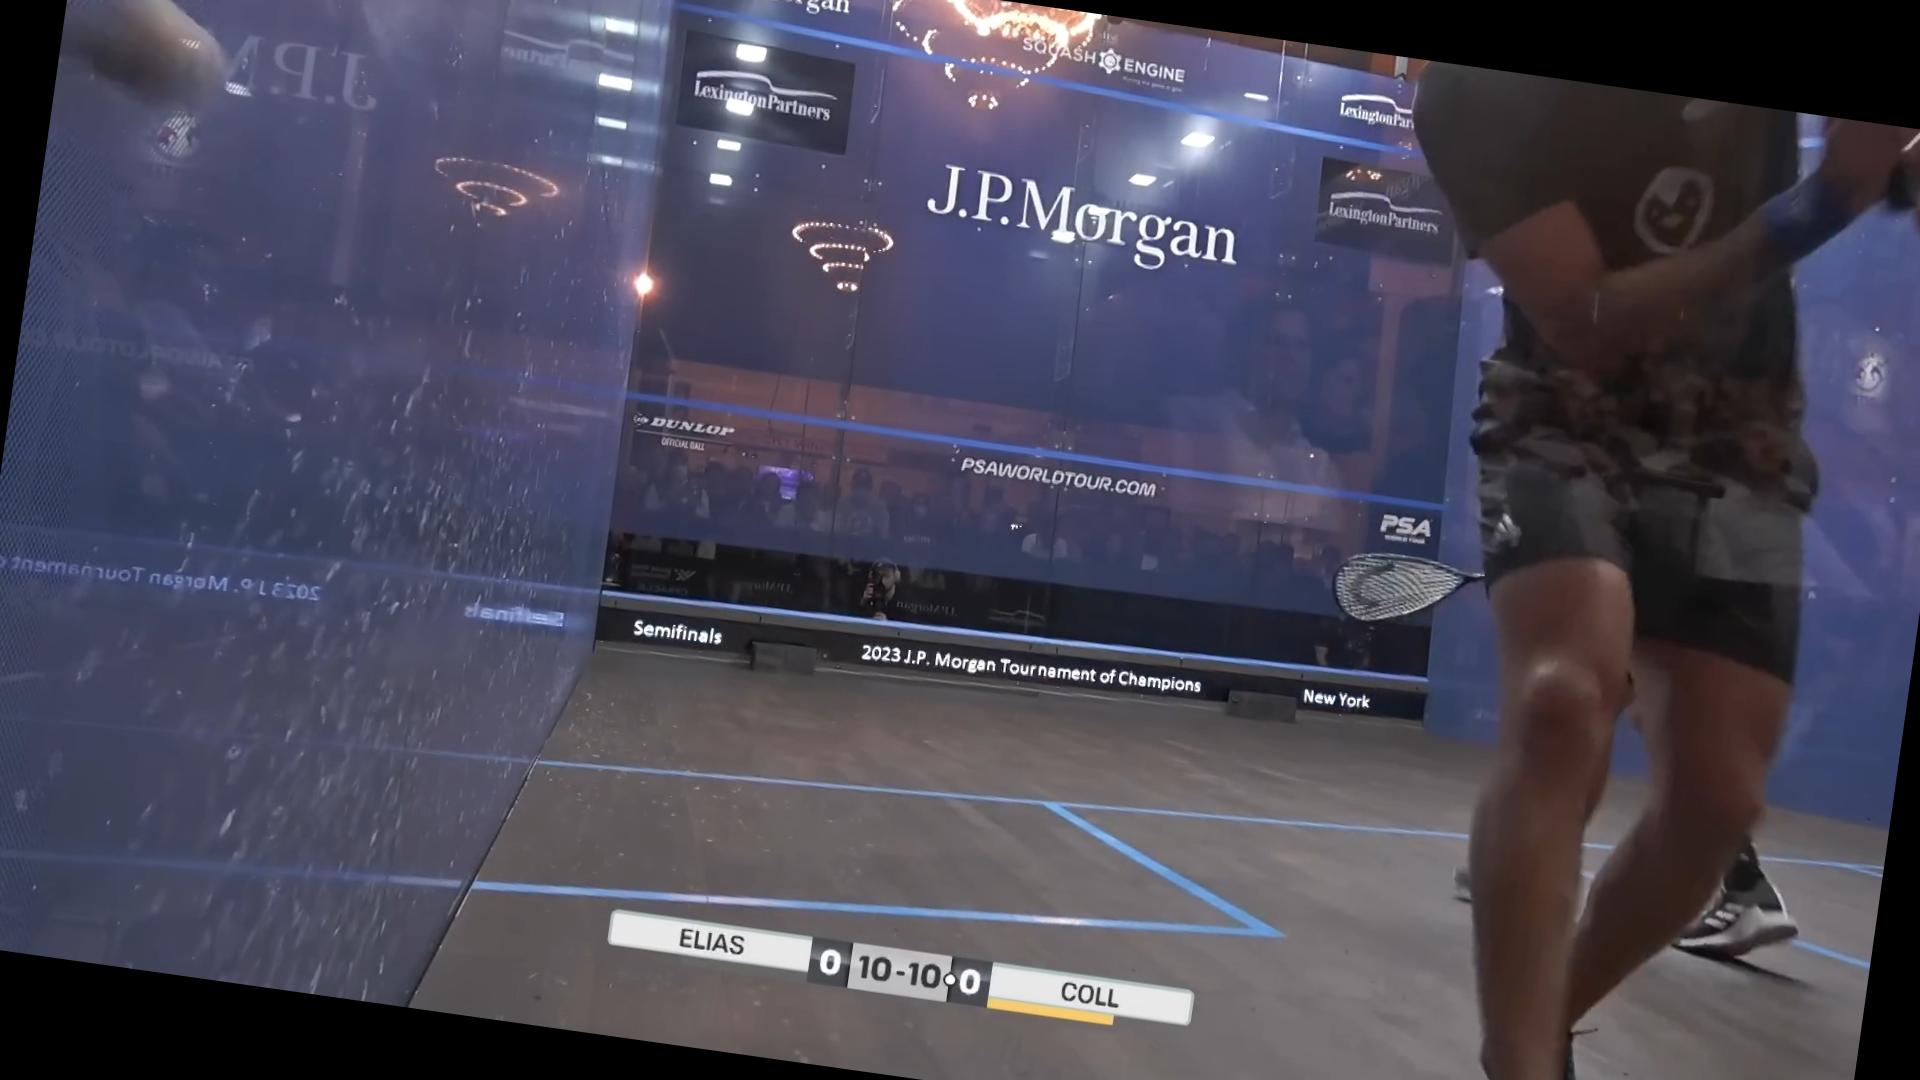Racket: (1319, 538, 1491, 657)
